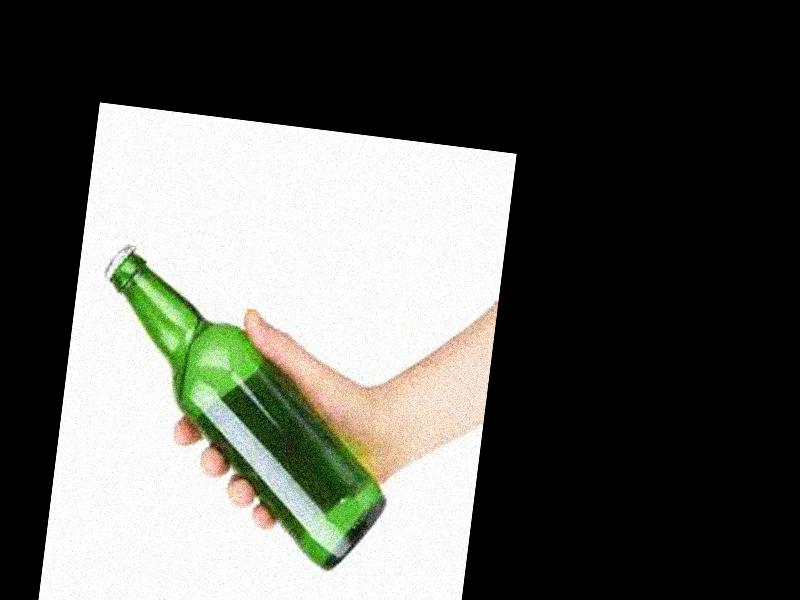Beer: (76, 242, 418, 574)
